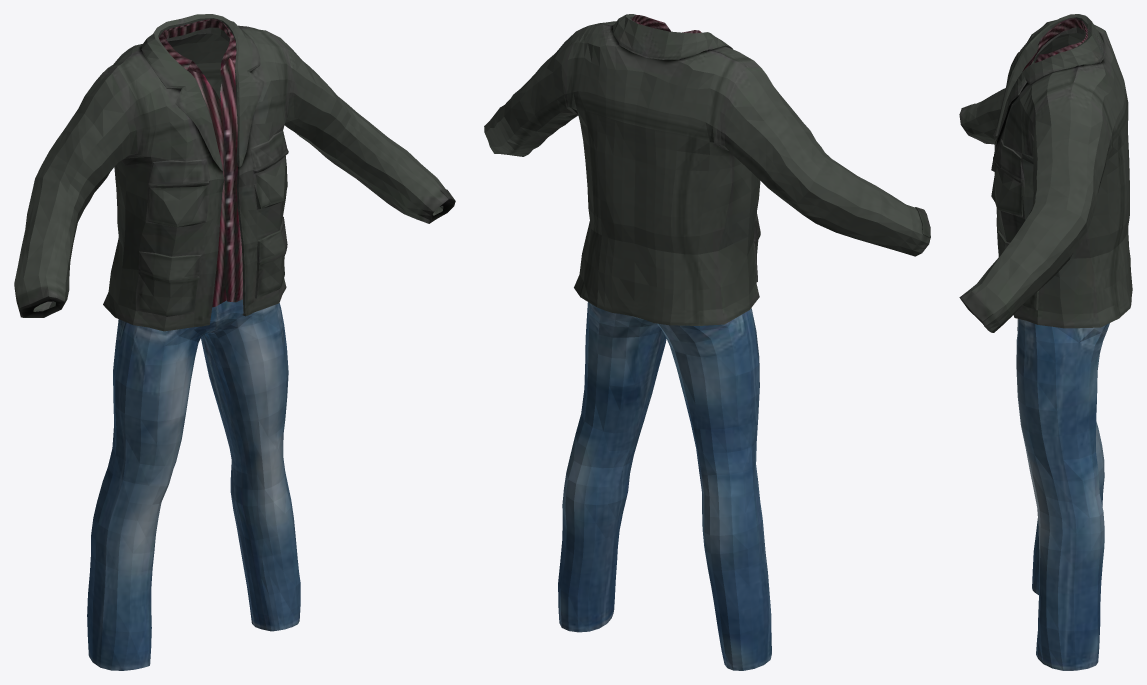
Rendered from mhw_male_casualsuit05.glb.
3 views of the same model, side by side, from view 1: azimuth 30°, elevation 25°; view 2: azimuth 150°, elevation 25°; view 3: azimuth 270°, elevation 25° (orthographic). The views are drawn at different scales.
Parts seen in each view (by area): view 1: mhw_male_casualsuit05; view 2: mhw_male_casualsuit05; view 3: mhw_male_casualsuit05.
Boxes of the visible parts, bbox=[...] form: mhw_male_casualsuit05: bbox=[14, 14, 455, 670]; mhw_male_casualsuit05: bbox=[484, 14, 930, 670]; mhw_male_casualsuit05: bbox=[959, 14, 1132, 670].
Size of the model in its own units: 1.16 by 1.56 by 0.4105.
1 material, 1 textured.
